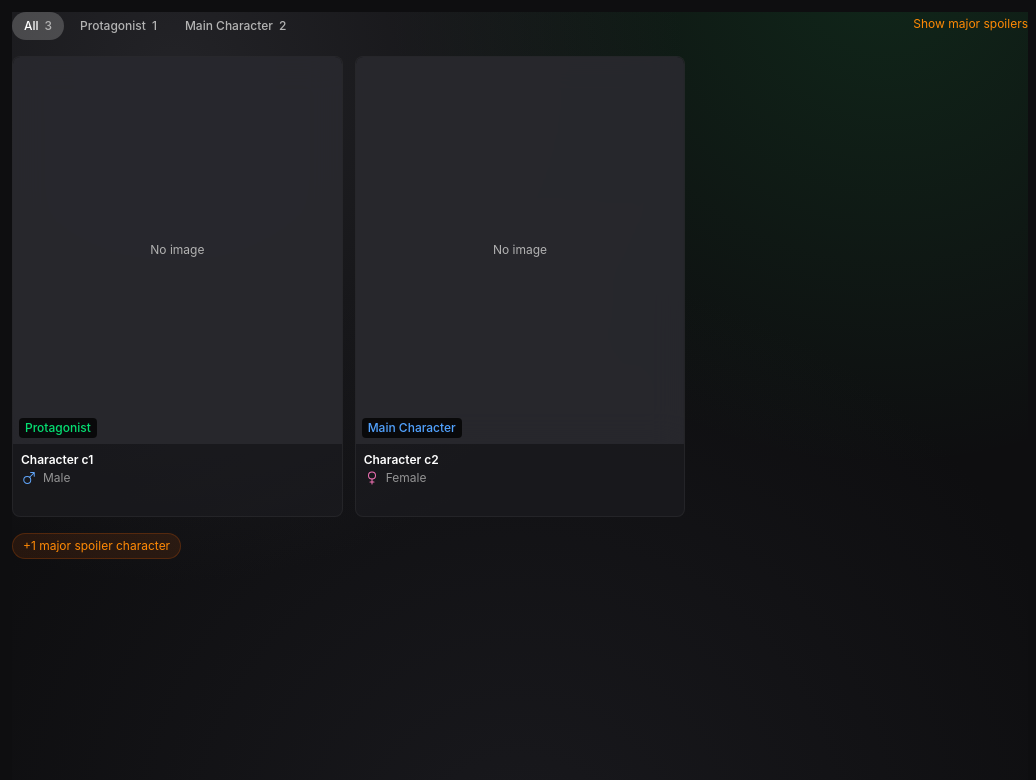
Test: VNCharacters › narrows by role, and keeps a spoiler apart until it is asked for
Click the tab "Protagonist 1" at x=118, y=26, box [68,12,169,40]
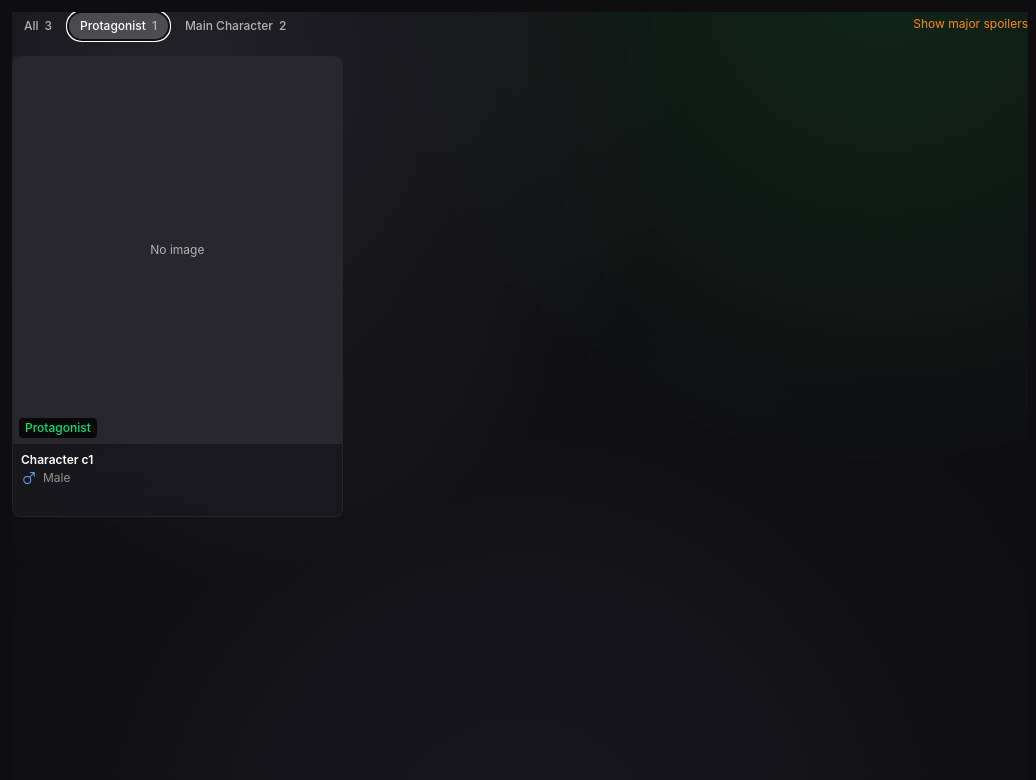
Result: the number of links is 1 at [12,56,343,517]
